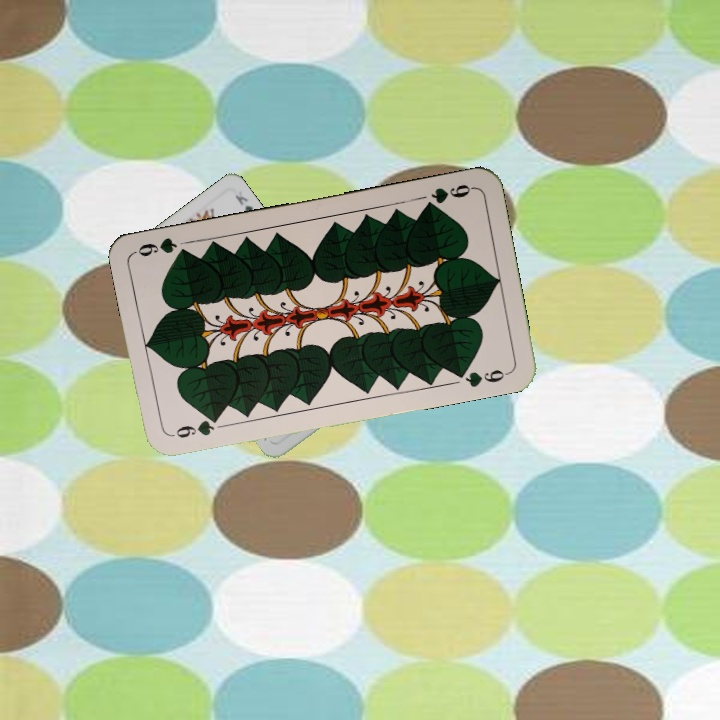G9: (419, 180, 476, 212), (167, 413, 222, 441)
